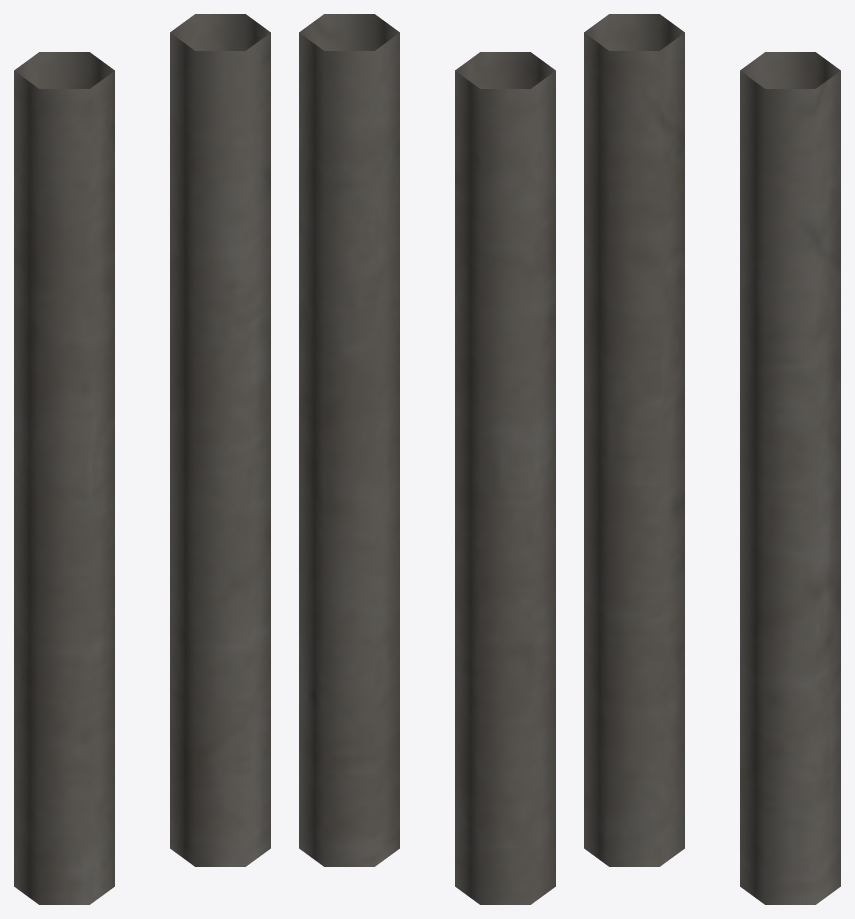
The model's file is cable_cable_double_10cm.fbx.
3 renders of one model, left to right at view 1: azimuth 30°, elevation 25°; view 2: azimuth 150°, elevation 25°; view 3: azimuth 330°, elevation 25°, orthographic.
Visible parts, largest first — view 1: modular_electric_cables__cable_double_10cm; view 2: modular_electric_cables__cable_double_10cm; view 3: modular_electric_cables__cable_double_10cm.
Part boxes in pixels (x1,y1,x2,y2): modular_electric_cables__cable_double_10cm: [14, 14, 270, 904]; modular_electric_cables__cable_double_10cm: [299, 14, 555, 904]; modular_electric_cables__cable_double_10cm: [584, 14, 840, 904].
Size of the model in its own units: 0.0297 by 0.1 by 0.0112.
